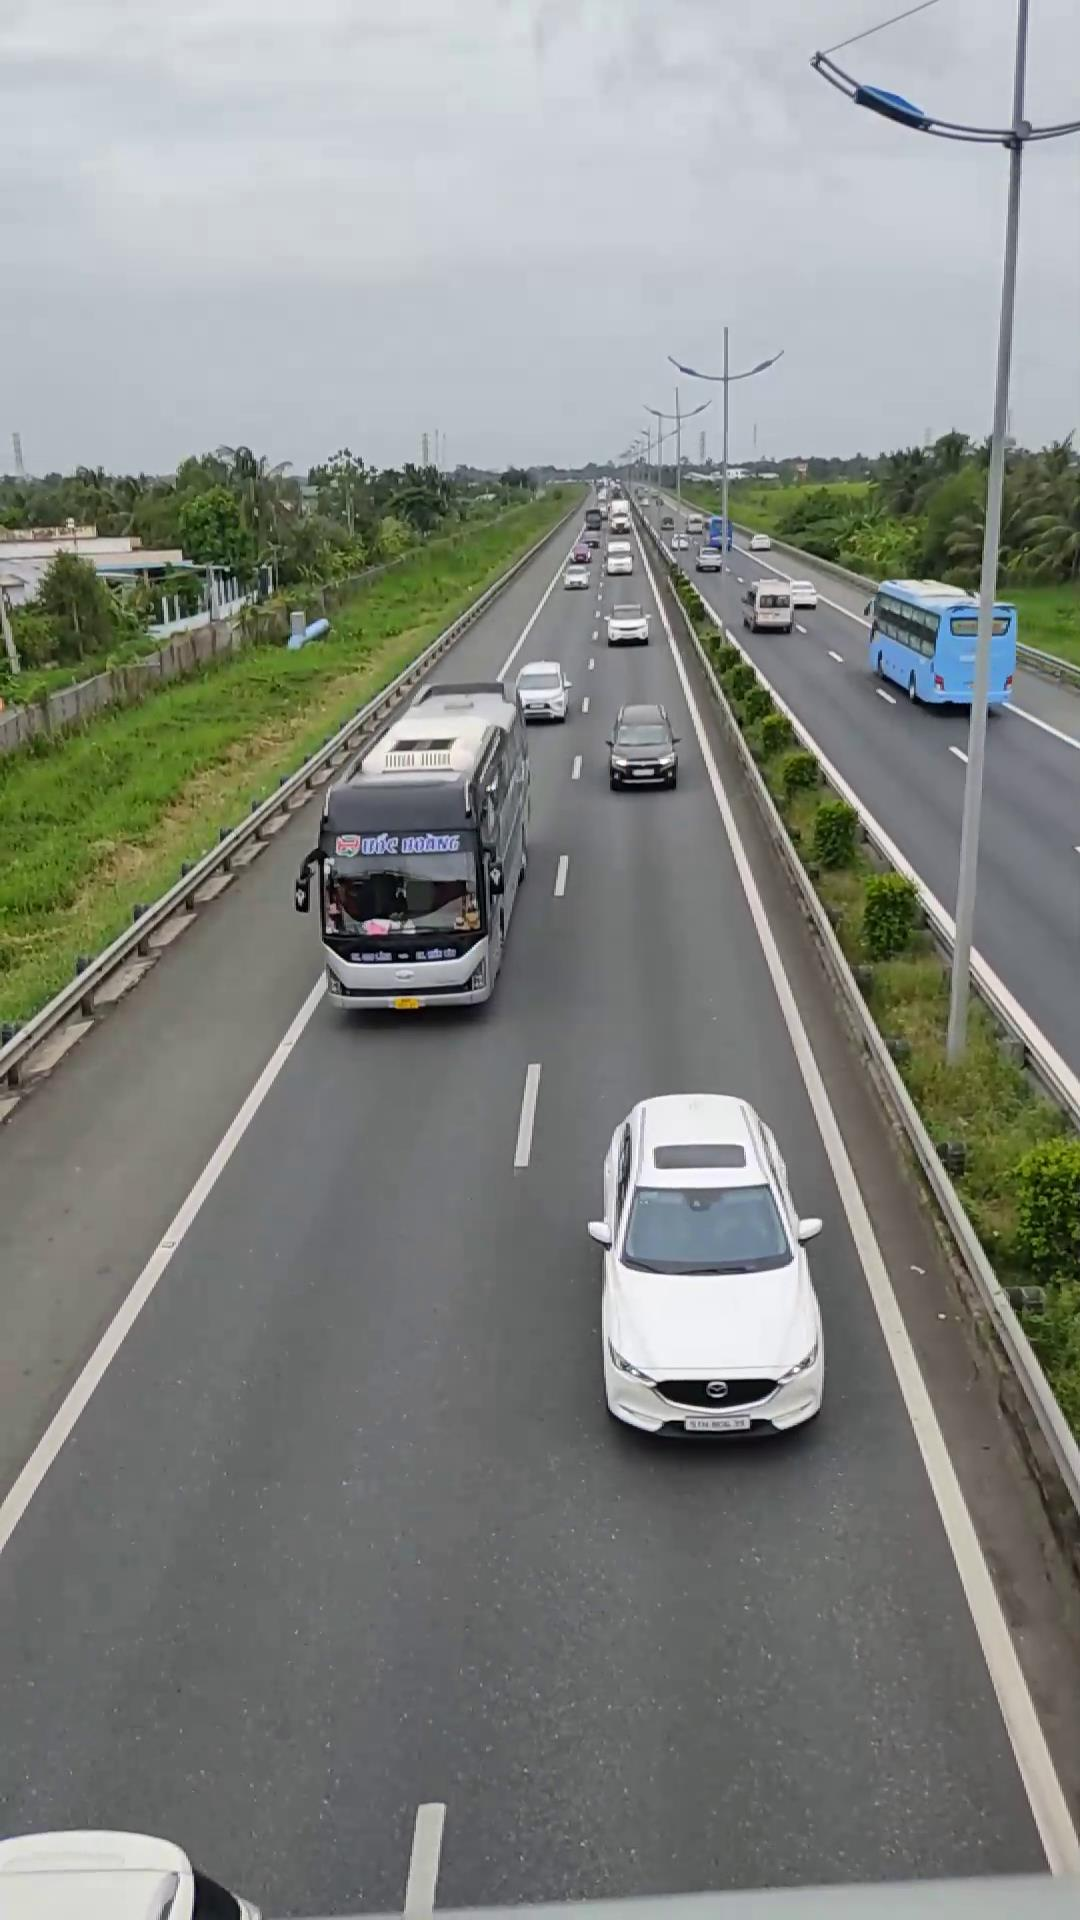bus: (303, 689, 533, 1013)
car: (587, 1090, 831, 1442), (604, 702, 681, 789), (505, 659, 576, 722)
